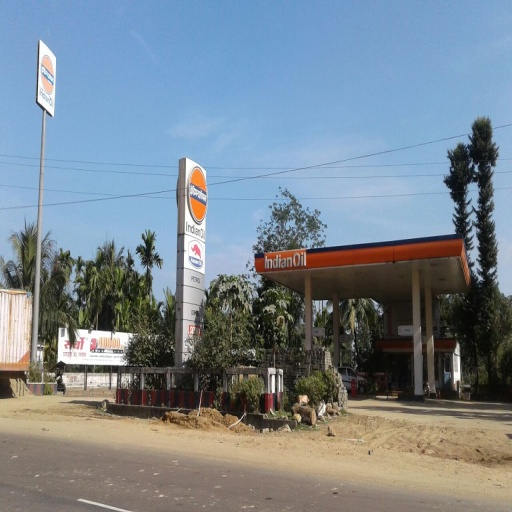roof: (254, 232, 474, 303)
